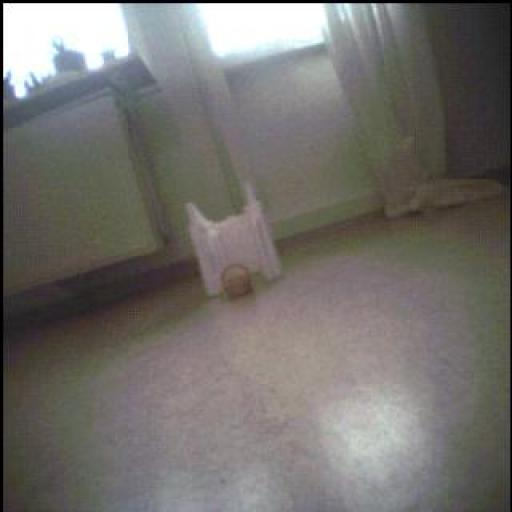Basket: (222, 265, 254, 300)
